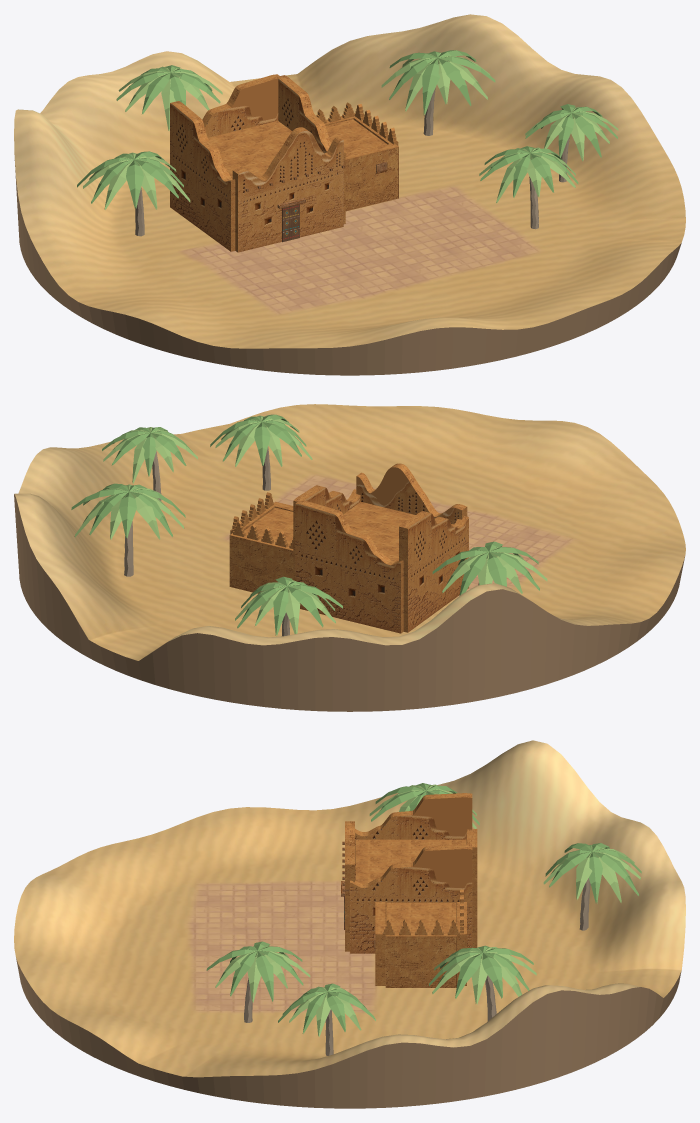
The picture shows the model from 3 angles, top to bottom: view 1: azimuth 30°, elevation 25°; view 2: azimuth 150°, elevation 25°; view 3: azimuth 270°, elevation 25°; orthographic projection.
Parts seen in each view (by area): view 1: Ground, Plinth, FacadeGable.001, FacadeSteps.001, FacadeSteps.003, Wall.001, HouseRoof, FacadeSteps.002, AnnexRoof, HouseDoor, frond.055; view 2: Ground, Plinth, FacadeSteps.003, FacadeSteps.001, Wall.002, FacadeGable.001, HouseRoof, FacadeSteps.002, AnnexRoof, frond.051; view 3: Ground, Plinth, FacadeSteps.002, FacadeSteps.001, Wall.003, HouseRoof, AnnexRoof, FacadeGable.001, Wall.001, FacadeSteps.003.
Boxes of the visible parts, <box> form: Ground: <box>14,14,685,348</box>; Plinth: <box>14,160,681,375</box>; FacadeGable.001: <box>232,127,343,252</box>; FacadeSteps.001: <box>170,101,235,251</box>; FacadeSteps.003: <box>202,74,279,137</box>; Wall.001: <box>345,143,398,211</box>; HouseRoof: <box>208,121,292,178</box>; FacadeSteps.002: <box>278,75,345,223</box>; AnnexRoof: <box>325,119,387,154</box>; HouseDoor: <box>282,204,299,242</box>; frond.055: <box>422,58,439,115</box>; Ground: <box>14,404,685,660</box>; Plinth: <box>14,494,684,711</box>; FacadeSteps.003: <box>295,500,403,633</box>; FacadeSteps.001: <box>399,511,468,632</box>; Wall.002: <box>229,533,293,593</box>; FacadeGable.001: <box>356,463,467,524</box>; HouseRoof: <box>343,502,453,561</box>; FacadeSteps.002: <box>293,485,360,580</box>; AnnexRoof: <box>244,507,293,544</box>; frond.051: <box>119,492,136,538</box>; Ground: <box>14,740,685,1077</box>; Plinth: <box>16,958,681,1108</box>; FacadeSteps.002: <box>350,844,472,953</box>; FacadeSteps.001: <box>355,793,472,880</box>; Wall.003: <box>385,932,456,987</box>; HouseRoof: <box>355,839,466,883</box>; AnnexRoof: <box>386,902,456,932</box>; FacadeGable.001: <box>345,821,354,951</box>; Wall.001: <box>375,902,385,985</box>; FacadeSteps.003: <box>467,829,477,947</box>.
Size of the model in its own units: 33 by 6.41 by 33.
16 materials, 11 textured.
